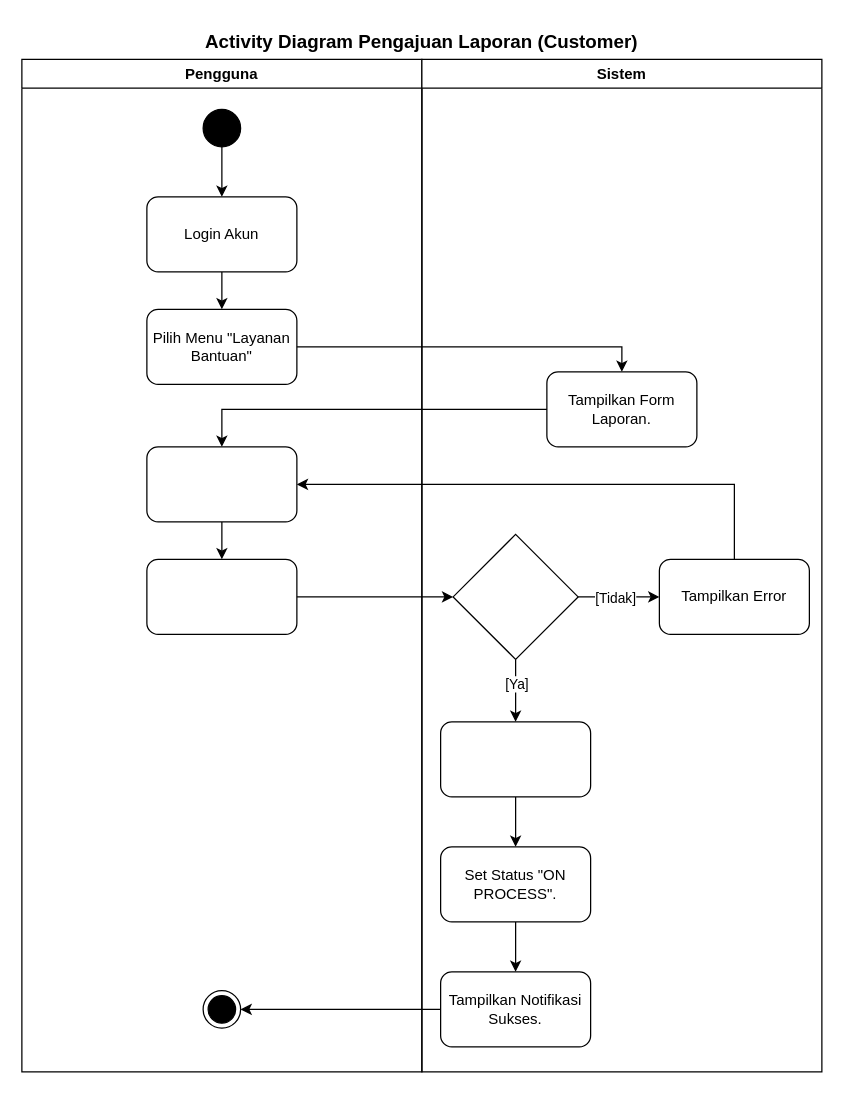
This 844x1094 diagram has some shape labels left out. The shapes that lost their labels are listed below. From the top down, each one's centre as x and y in pixels, then its label:
point 221,484: Input Judul, Deskripsi & Foto.
point 221,596: Klik "Kirim".
point 515,596: Validasi Input?
point 515,759: Simpan ke Database.
